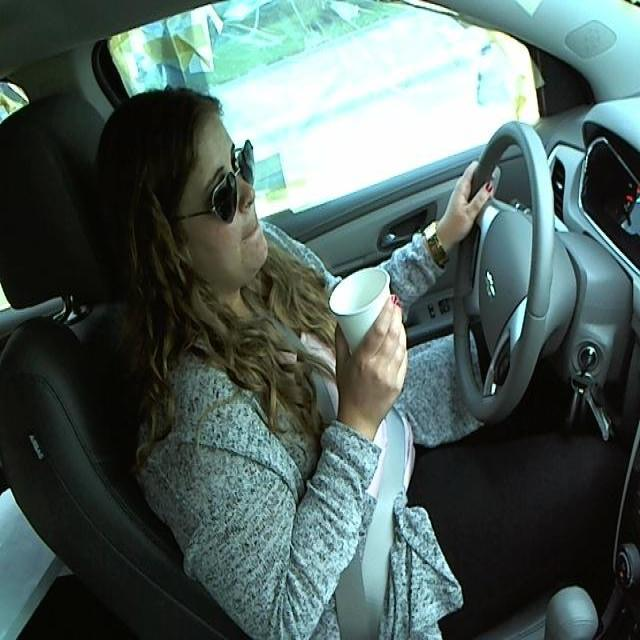Seatbelt: (331, 270, 403, 366)
